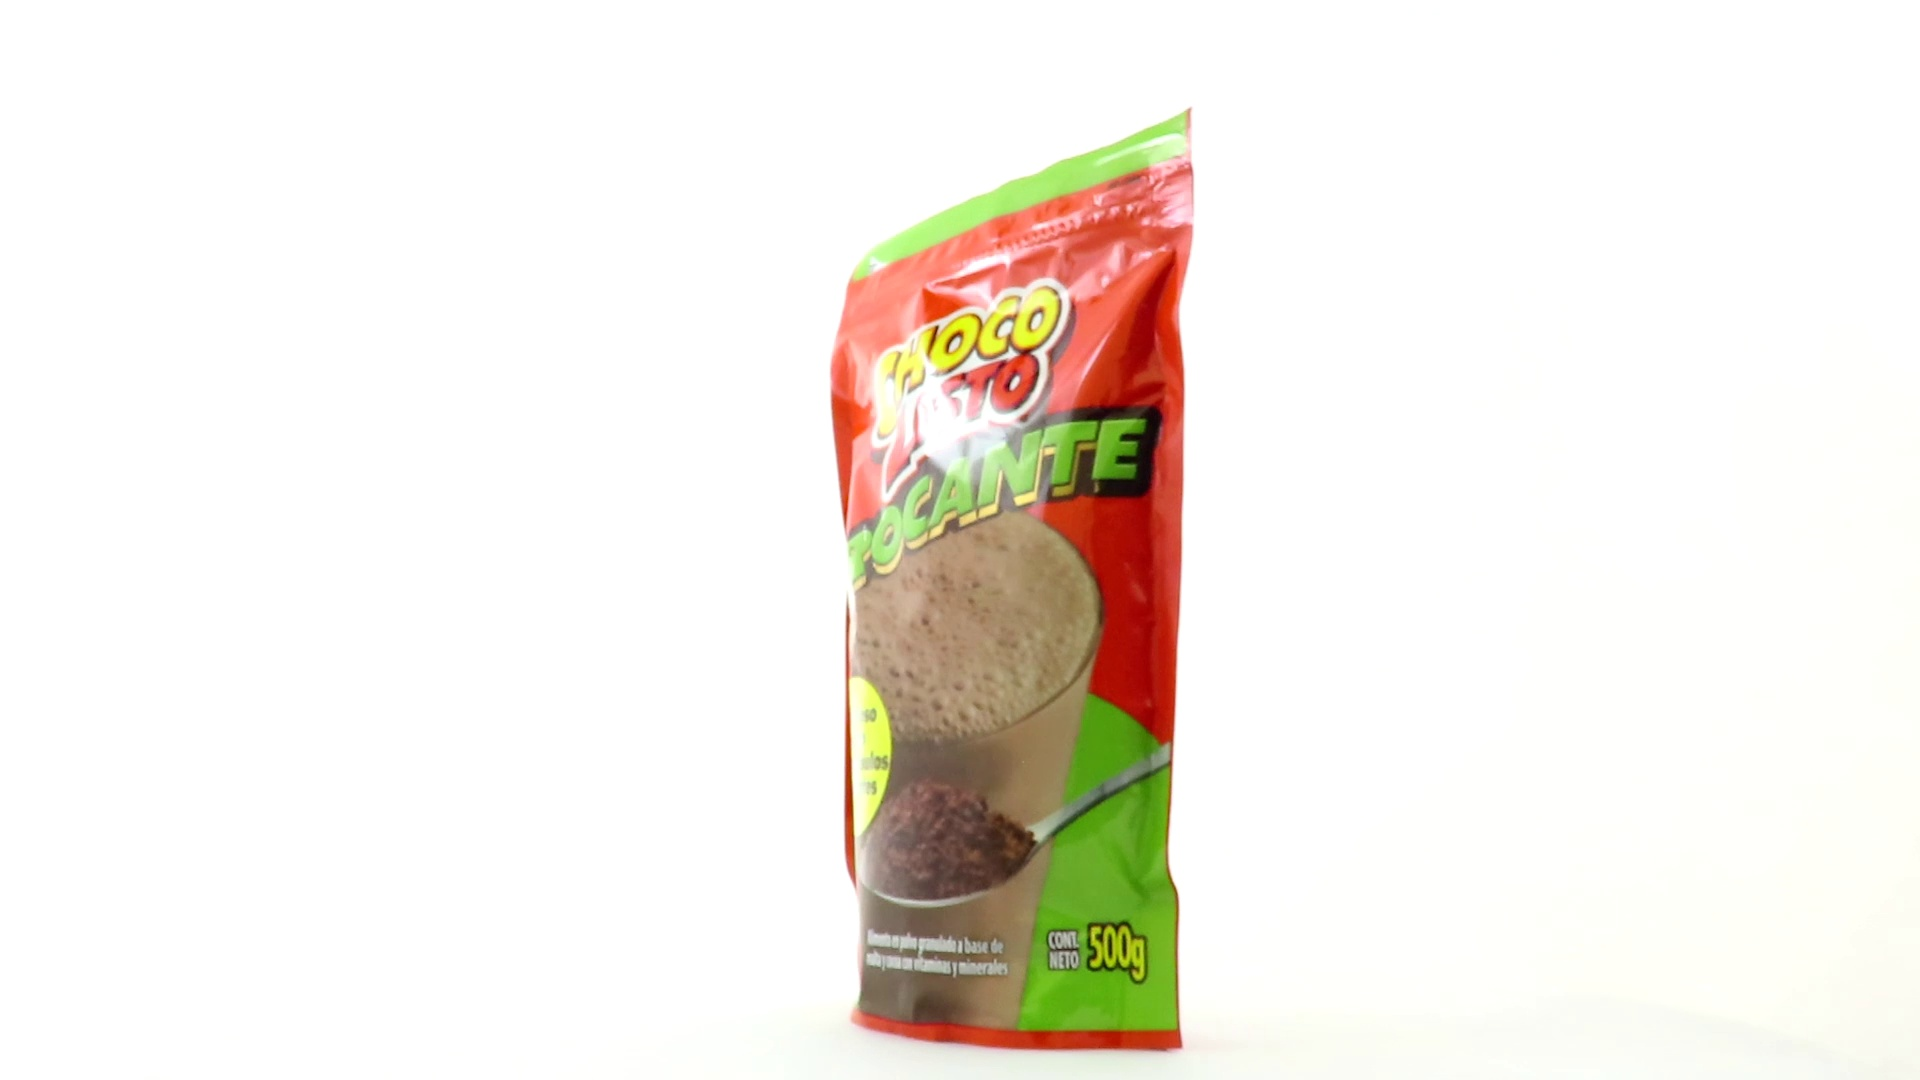COL0170102DYP50000: (825, 102, 1200, 1058)
